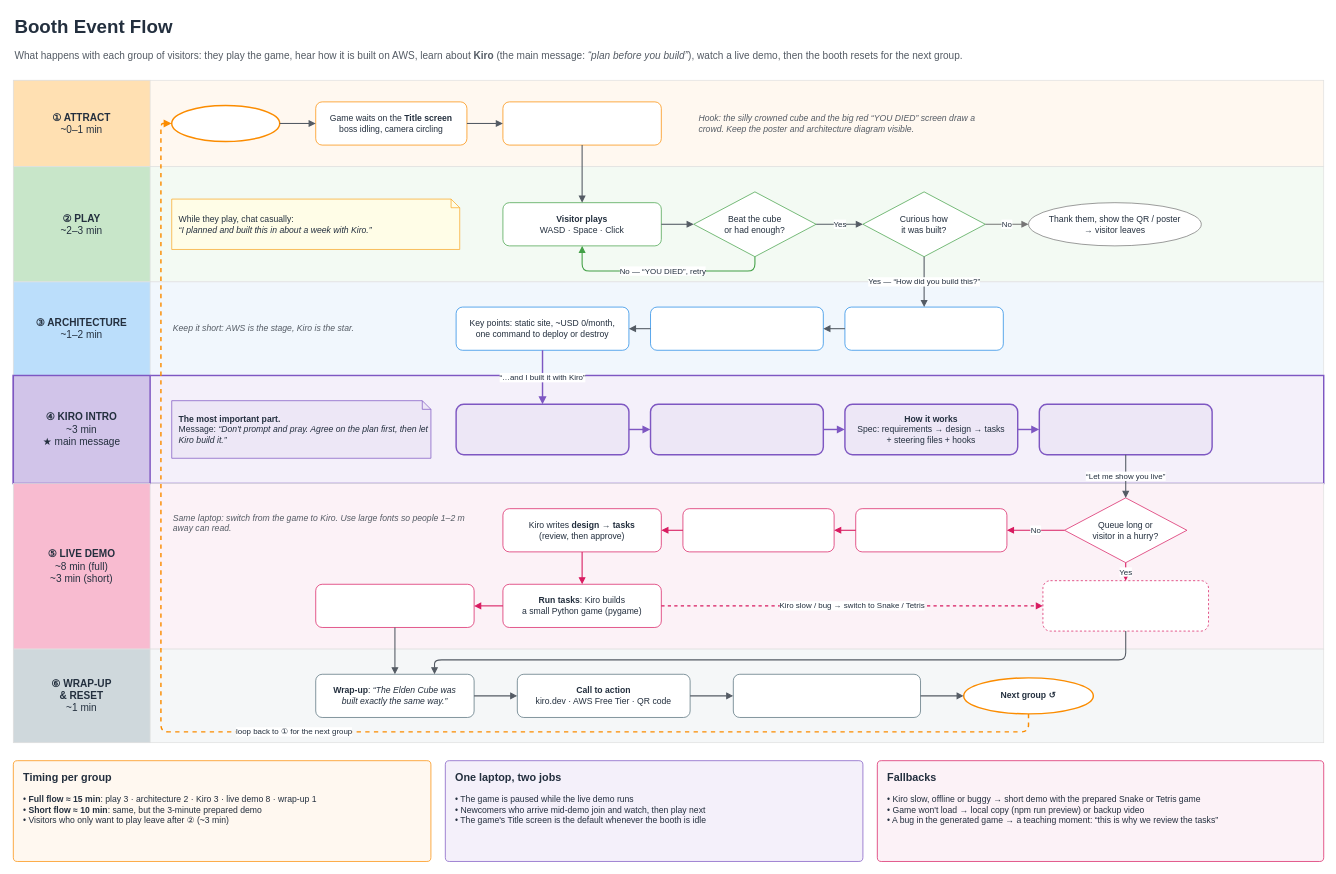
Image size: 1336x874. Some labels were removed from this diagram. Here are the shapes that lost their labels. From the top down, the centre of each, then its label:
At (225,123): "Visitor walks by".
At (581,123): "Invite: “Can you beat the Elden Cube? Three hits and you're dead.”".
At (736,328): "Walk through: Kiro → Vite → CDK → CloudFormation → S3 + CloudFront".
At (923,328): "Show the architecture diagram (sheet 1)".
At (542,429): "The problem “Prompt and pray”: AI writes code before anyone agrees what to build".
At (736,429): "What is Kiro AWS's agentic AI IDE for spec-driven development".
At (1125,429): "Proof Open the real Elden Cube spec (files / screenshots)".
At (758,530): "Kiro writes requirements → change one live (visitor's idea)".
At (931,530): "Start : new empty folder Spec session + opening prompt".
At (394,605): "Visitor plays the game Kiro just generated".
At (1125,605): "Short demo (~3 min) open the prepared Snake / Tetris → run the finished game".
At (827,695): "Reset : new empty folder for the next demo, game back to the Title screen".
